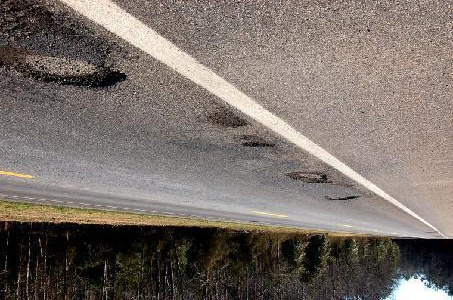pothole: (15, 52, 127, 90), (204, 108, 248, 130), (283, 169, 330, 185), (237, 134, 276, 149), (321, 193, 358, 203)
